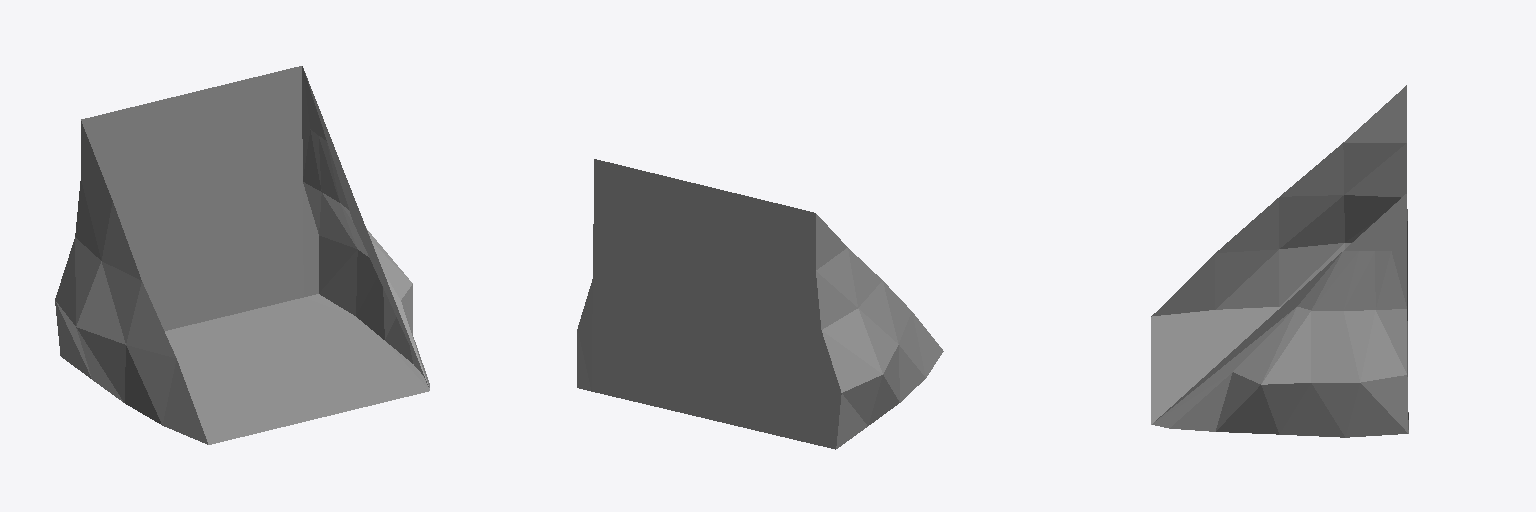
The model's file is rocksteep.obj.
3 views of the same model, side by side, from view 1: azimuth 30°, elevation 25°; view 2: azimuth 150°, elevation 25°; view 3: azimuth 270°, elevation 25° (orthographic).
Visible parts, largest first — view 1: Cube; view 2: Cube; view 3: Cube.
Boxes of the visible parts, box(x1,y1,x2,y2) form: Cube: box(55, 66, 429, 444); Cube: box(577, 159, 943, 449); Cube: box(1151, 85, 1408, 437).
Size of the model in its own units: 2.66 by 2.02 by 2.01.